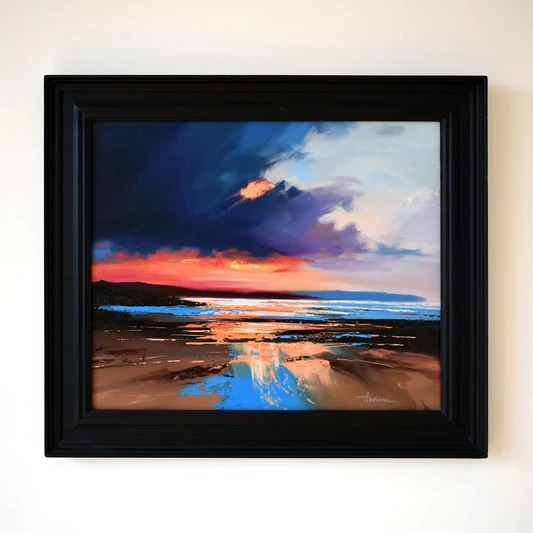painting: (91, 121, 442, 411)
